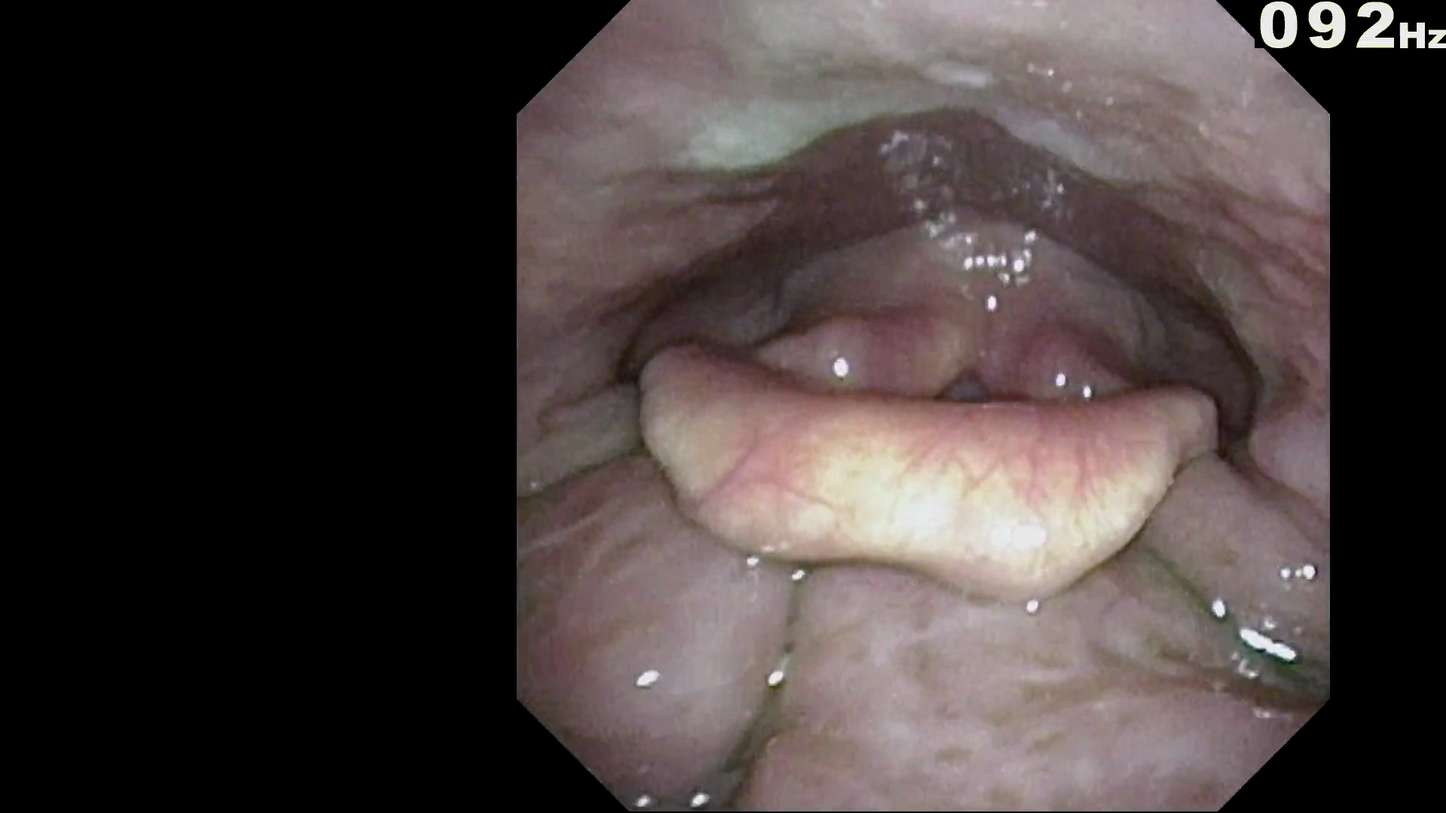epiglottis: (605, 380, 1217, 570)
trachea: (921, 368, 1024, 441)
